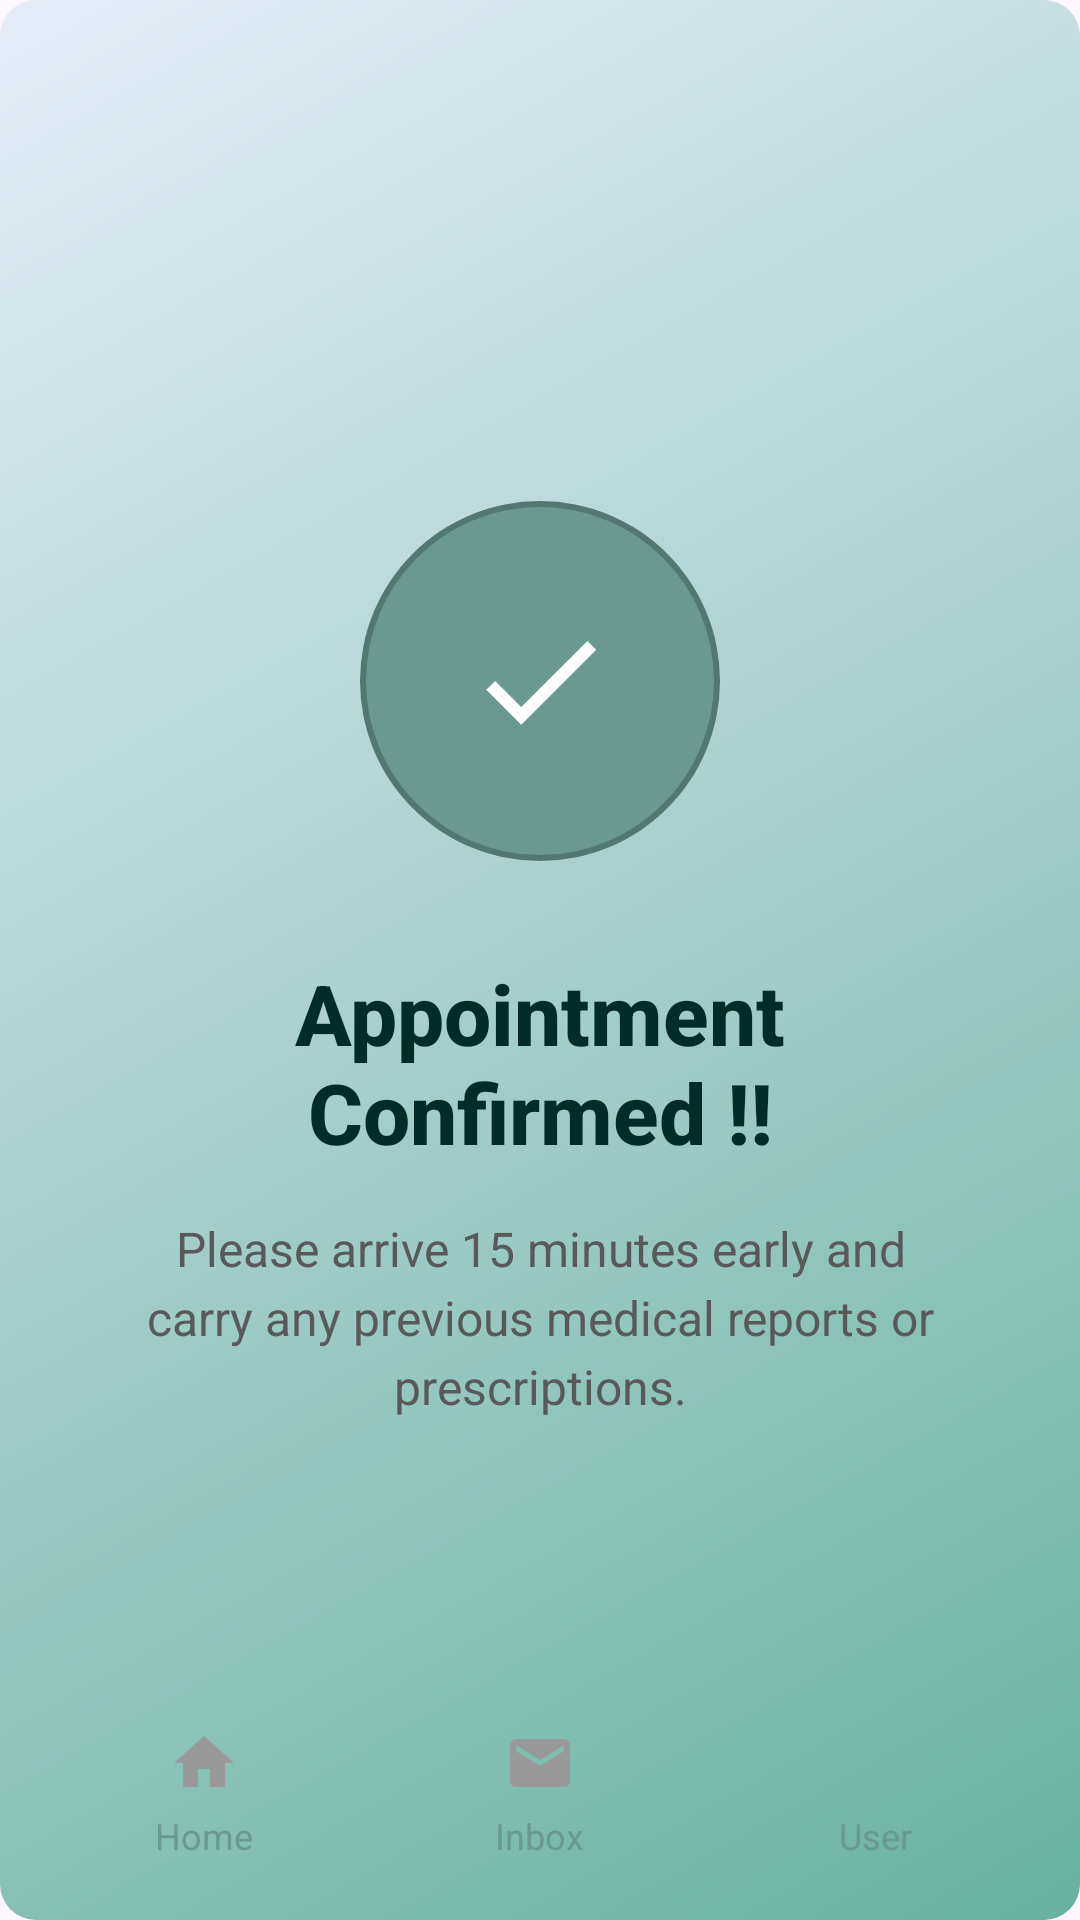

Screen size 1080×1920. Icon name, then its box in pixels as (x1, y1, x2, y2):
Success: (360, 501, 720, 861)
